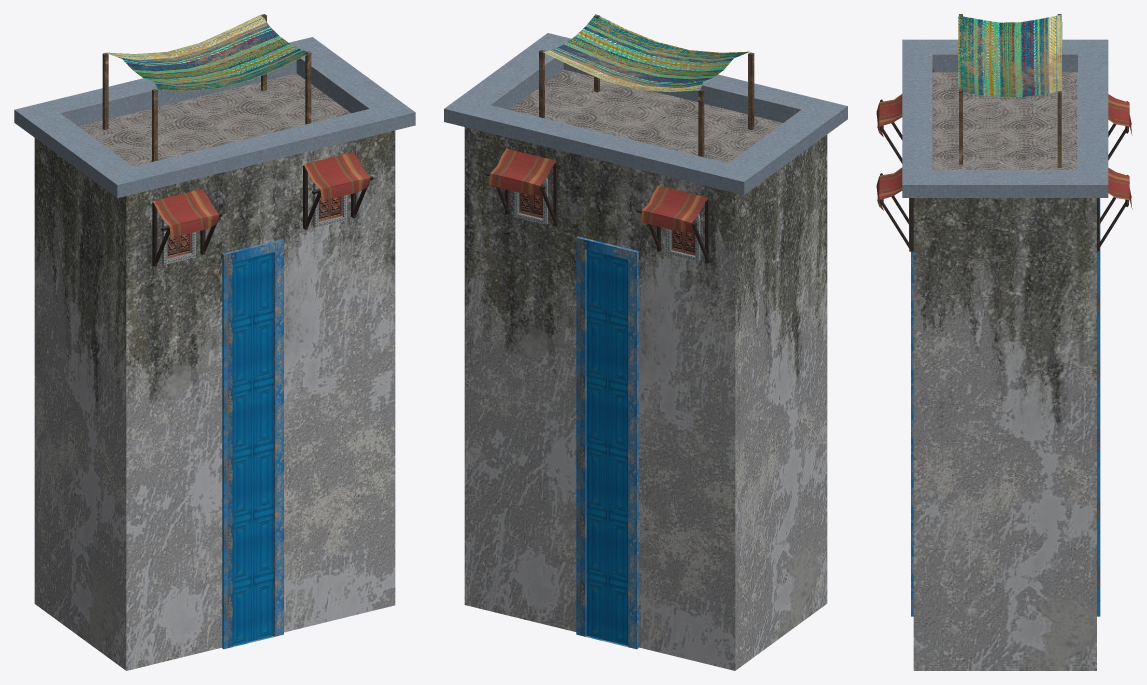
File: medina_cityscape_daar_4.gltf
3 views of the same model, side by side, from view 1: azimuth 30°, elevation 25°; view 2: azimuth 150°, elevation 25°; view 3: azimuth 270°, elevation 25° (orthographic).
Visible parts, largest first — view 1: medina_cityscape_daar_4; view 2: medina_cityscape_daar_4; view 3: medina_cityscape_daar_4.
Boxes of the visible parts, x1=… form: medina_cityscape_daar_4: x1=14, y1=14, x2=415, y2=670; medina_cityscape_daar_4: x1=444, y1=14, x2=847, y2=670; medina_cityscape_daar_4: x1=876, y1=14, x2=1132, y2=670.
Size of the model in its own units: 5.29 by 9.37 by 3.94.
Materials: 5 (5 with a texture image).
